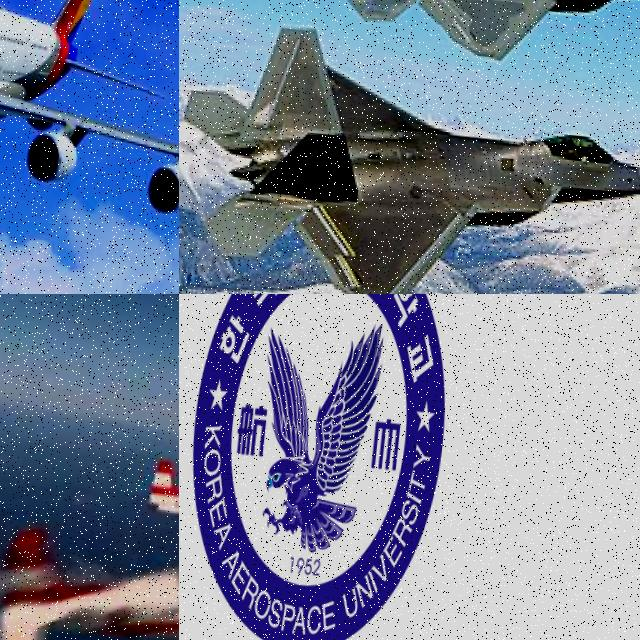A380: (0, 0, 179, 226)
F22: (179, 13, 640, 294), (310, 0, 640, 90)
KAU_Marker: (179, 294, 470, 640)
KT-1: (0, 382, 179, 640), (138, 455, 179, 550)
